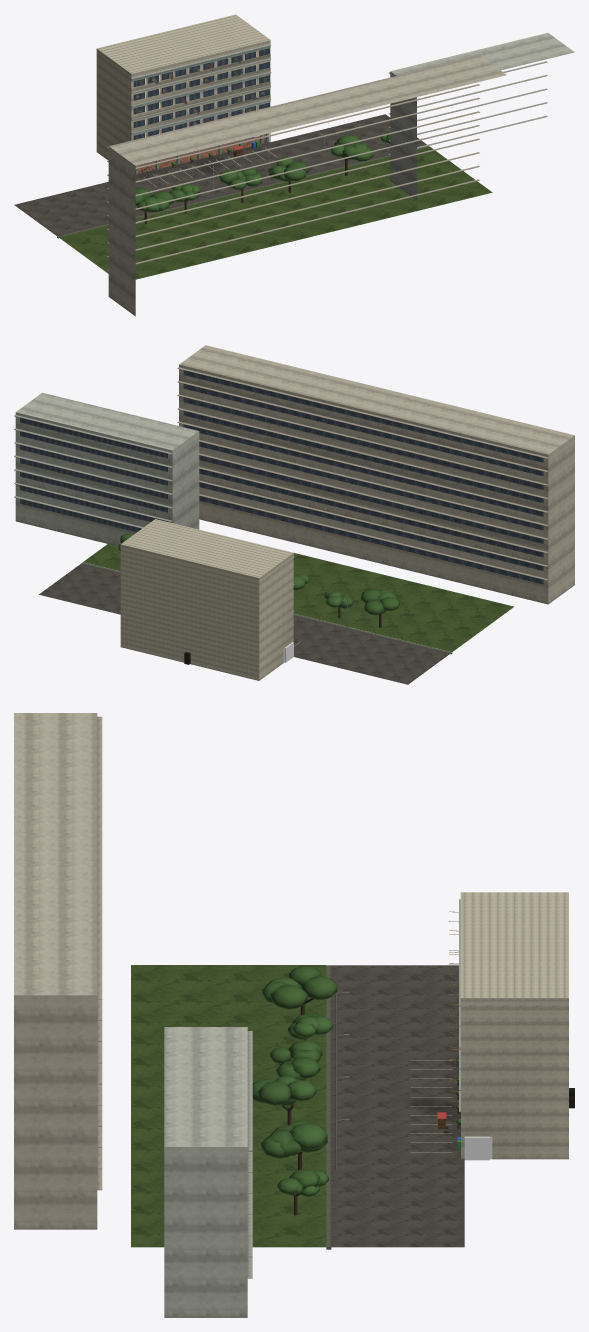
The model's file is kopitiam.glb.
3 views of the same model, one above another, from view 1: azimuth 30°, elevation 25°; view 2: azimuth 150°, elevation 25°; view 3: azimuth 270°, elevation 25° (orthographic). The views are drawn at different scales.
Parts seen in each view (by area): view 1: Kopitiam_Static, THEN_Laundry; view 2: Kopitiam_Static; view 3: Kopitiam_Static.
Part boxes in pixels (x1,y1,x2,y2): Kopitiam_Static: (14, 14, 574, 316); THEN_Laundry: (136, 57, 267, 139); Kopitiam_Static: (14, 345, 574, 684); Kopitiam_Static: (14, 713, 574, 1317).
Bounding box in the file's own units: 105 × 31.3 × 67.2.
Materials: 13 (9 with a texture image).
